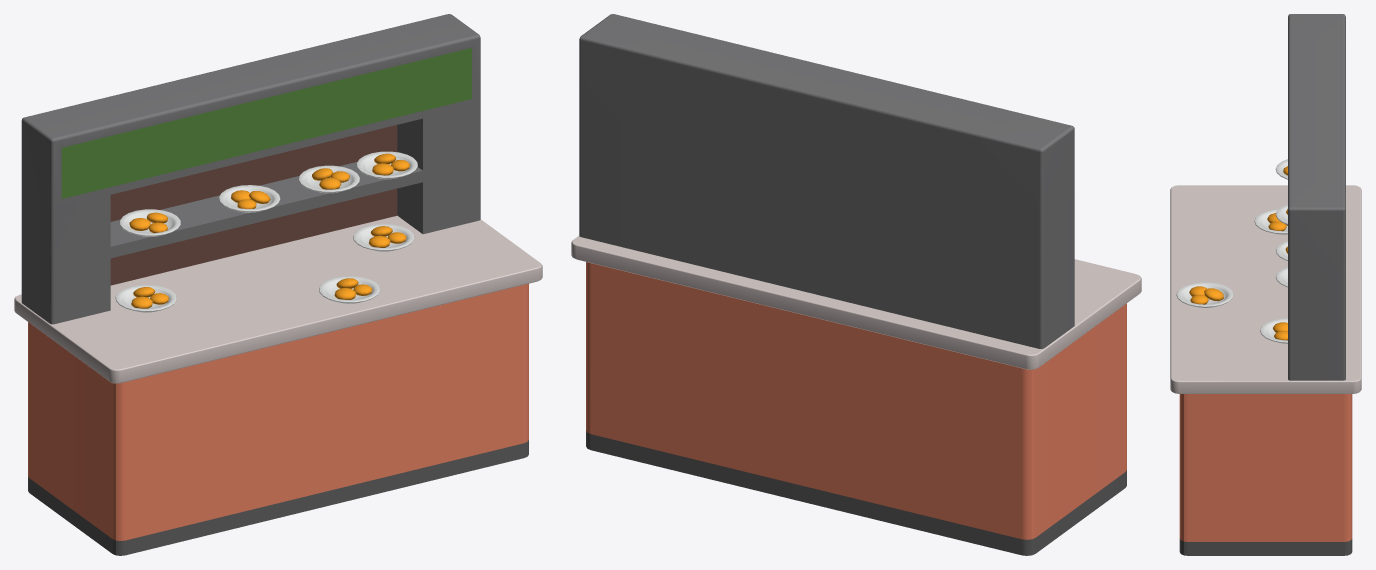
The model's file is Mixed_SnacksCounter_01.fbx.
3 renders of one model, left to right at view 1: azimuth 30°, elevation 25°; view 2: azimuth 150°, elevation 25°; view 3: azimuth 270°, elevation 25°, orthographic. The views are drawn at different scales.
Visible parts, largest first — view 1: Mixed_SnacksCounter_01; view 2: Mixed_SnacksCounter_01; view 3: Mixed_SnacksCounter_01.
Boxes of the visible parts, bbox=[...] form: Mixed_SnacksCounter_01: bbox=[14, 14, 542, 555]; Mixed_SnacksCounter_01: bbox=[571, 14, 1141, 555]; Mixed_SnacksCounter_01: bbox=[1170, 14, 1361, 555].
Size of the model in its own units: 452 by 376 by 186.
